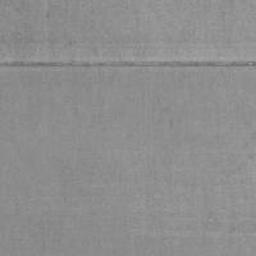Welding line: (110, 62, 250, 68), (0, 62, 92, 68)
